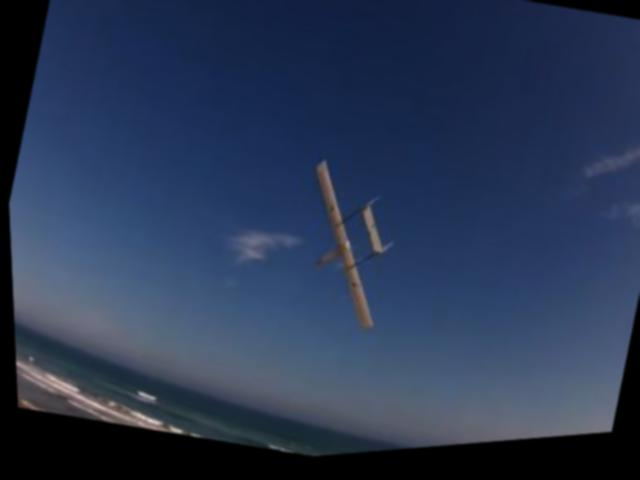uav: (279, 155, 407, 343)
